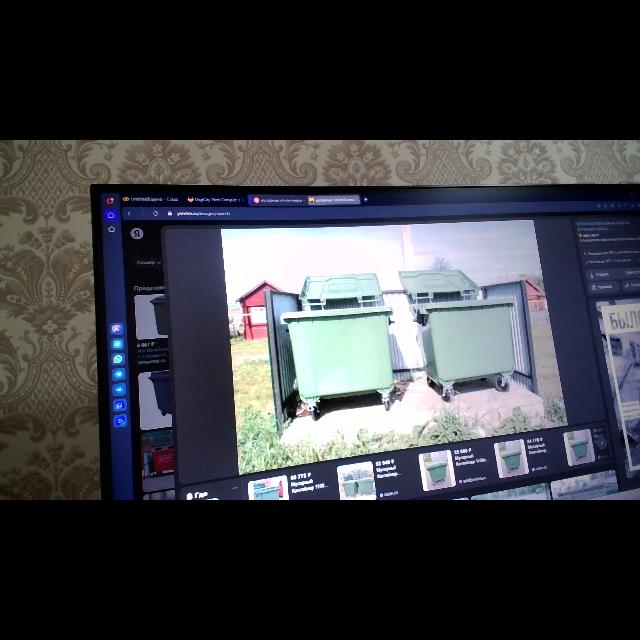Trash_Can_Empty: (280, 306, 395, 401), (410, 298, 516, 385)
